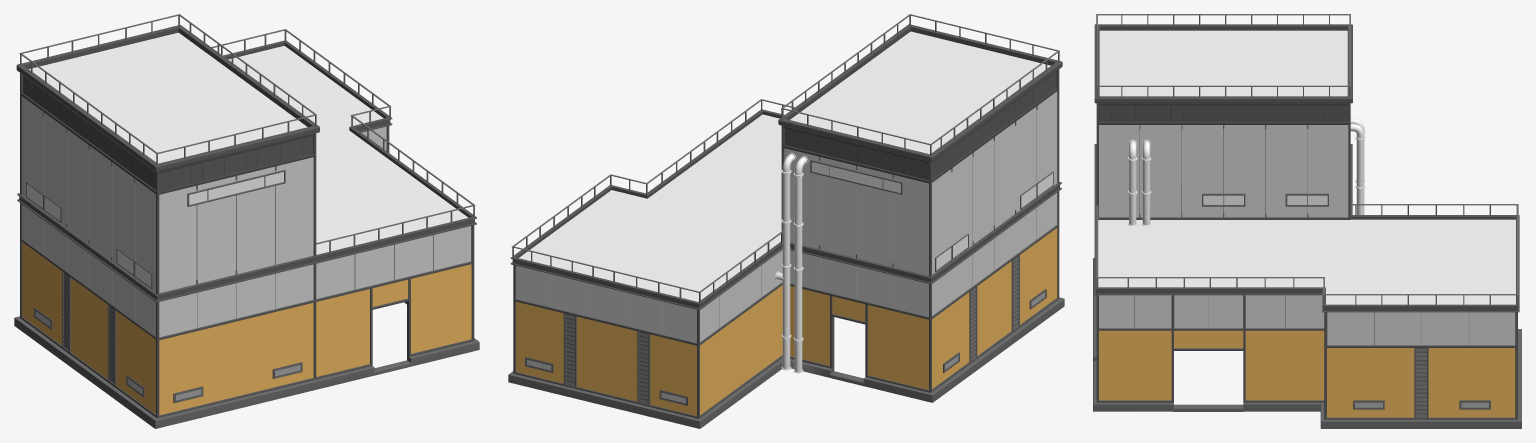
3 views of the same model, side by side, from view 1: azimuth 30°, elevation 25°; view 2: azimuth 150°, elevation 25°; view 3: azimuth 270°, elevation 25° (orthographic). The views are drawn at different scales.
Parts seen in each view (by area): view 1: SM_H_Building_FutureTech_ToolHouse_01_ExterWall_01; view 2: SM_H_Building_FutureTech_ToolHouse_01_ExterWall_01; view 3: SM_H_Building_FutureTech_ToolHouse_01_ExterWall_01.
Part boxes in pixels (x1,y1,x2,y2): SM_H_Building_FutureTech_ToolHouse_01_ExterWall_01: (14,14,479,428); SM_H_Building_FutureTech_ToolHouse_01_ExterWall_01: (508,14,1064,428); SM_H_Building_FutureTech_ToolHouse_01_ExterWall_01: (1093,14,1521,428).
Bounding box in the file's own units: 641 × 579 × 417.
